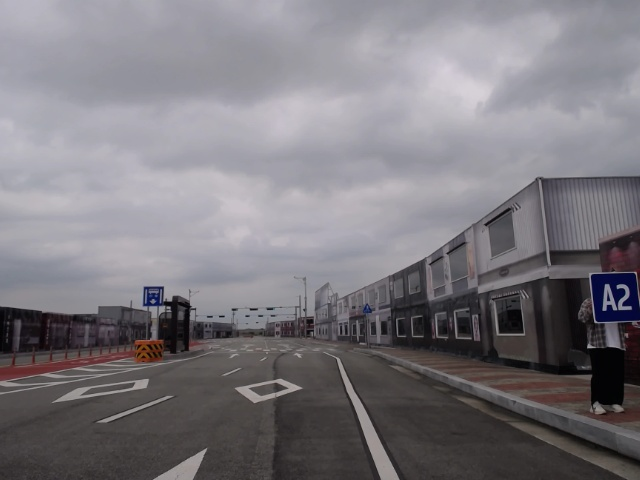delivery_a2: (590, 273, 639, 324)
